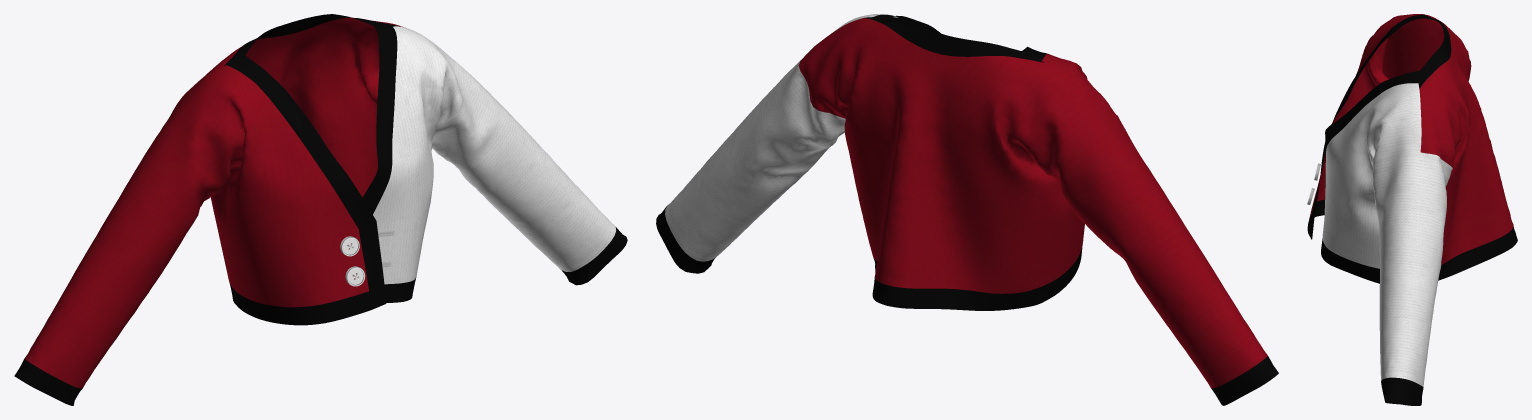
3 renders of one model, left to right at view 1: azimuth 30°, elevation 25°; view 2: azimuth 150°, elevation 25°; view 3: azimuth 270°, elevation 25°, orthographic. The views are drawn at different scales.
Visible parts, largest first — view 1: Model_1; view 2: Model_1; view 3: Model_1.
Part boxes in pixels (bbox=[...]): Model_1: bbox=[14, 14, 627, 405]; Model_1: bbox=[656, 14, 1278, 405]; Model_1: bbox=[1307, 14, 1517, 405].
Size of the model in its own units: 9.99 by 4.88 by 3.52.
Materials: 4 (3 with a texture image).
